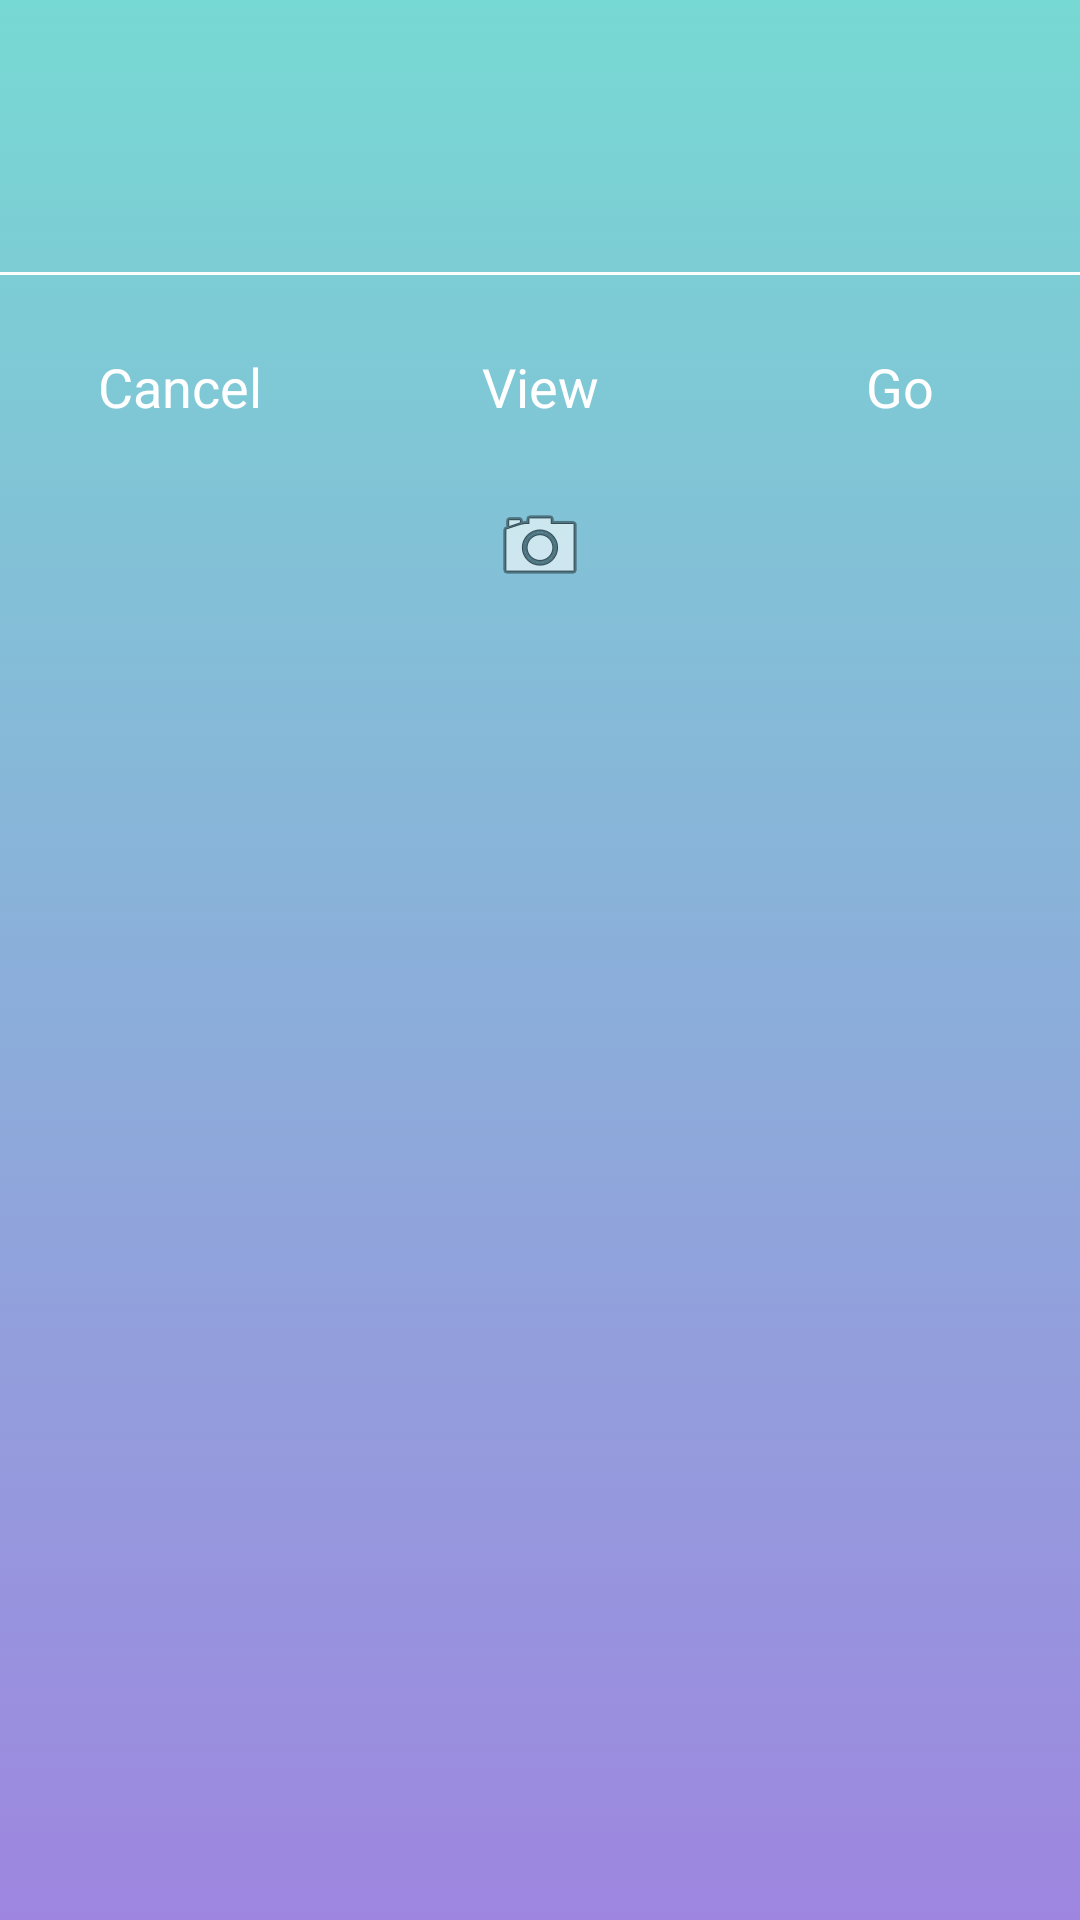

Icon click points for this 1080*1920 phone screenshot, format (x=x, y=y):
camera: (x=540, y=544)
